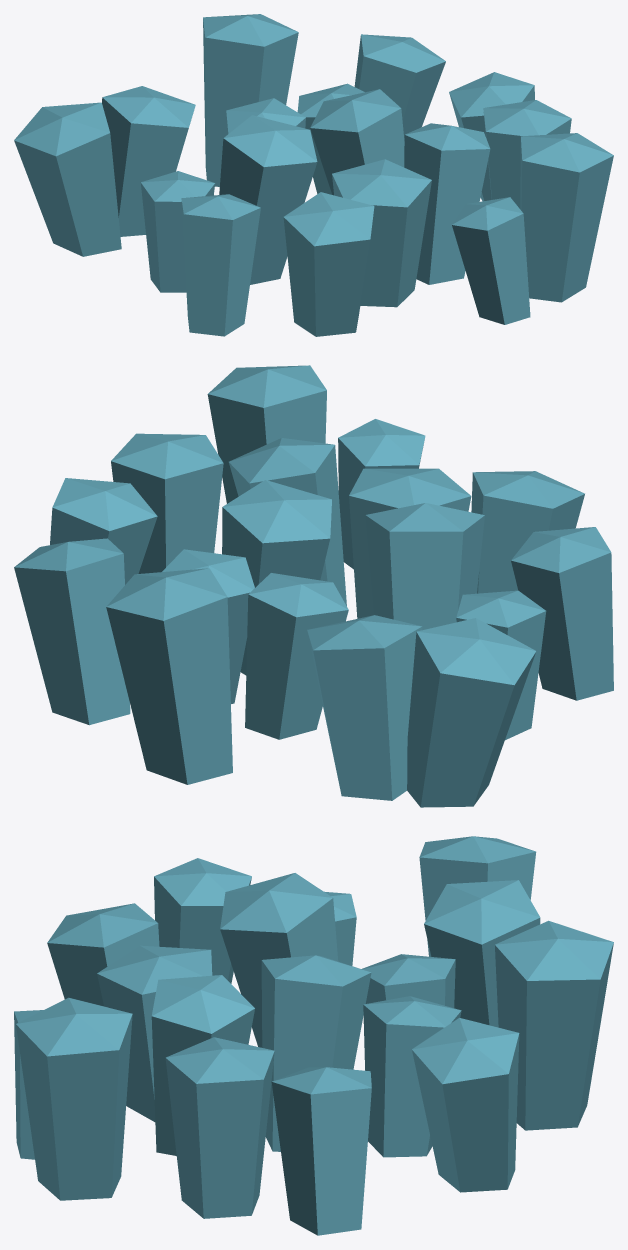
Rendered from Coral05.fbx.
3 renders of one model, top to bottom at view 1: azimuth 30°, elevation 25°; view 2: azimuth 150°, elevation 25°; view 3: azimuth 270°, elevation 25°, orthographic. The views are drawn at different scales.
Parts seen in each view (by area): view 1: Coral05; view 2: Coral05; view 3: Coral05.
Boxes of the visible parts, box(x1,y1,x2,y2) form: Coral05: box(14, 14, 613, 336); Coral05: box(14, 365, 613, 807); Coral05: box(14, 836, 613, 1235).
Bounding box in the file's own units: 2.34 × 0.7598 × 2.24.
